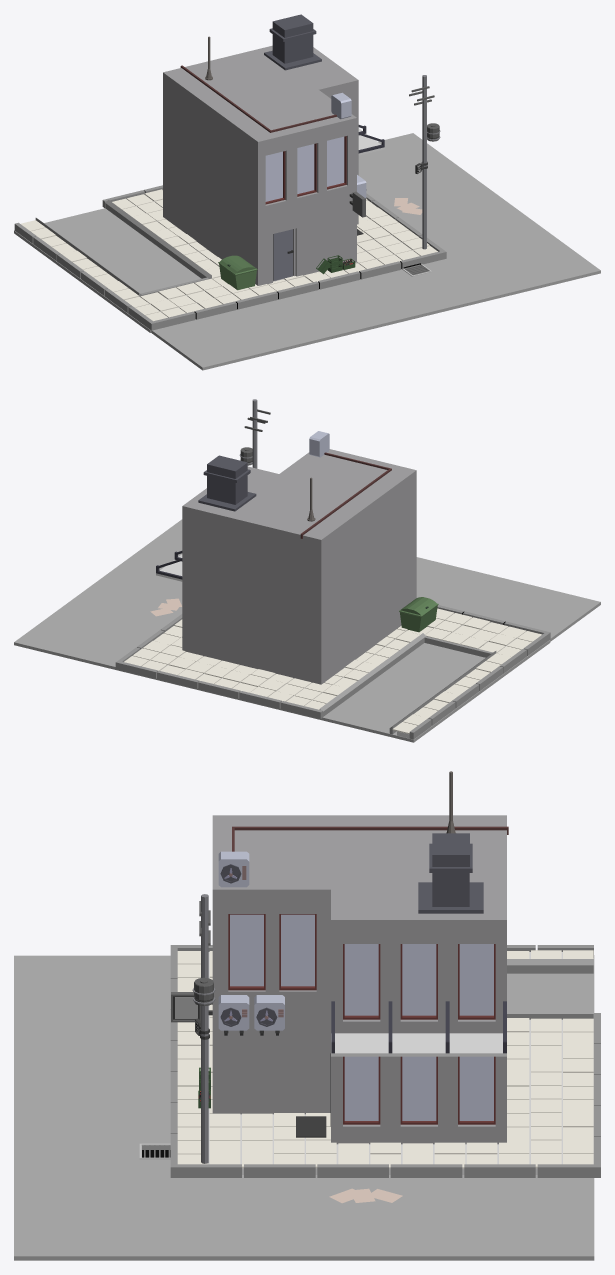
Rendered from Shop_Building.fbx.
The picture shows the model from 3 angles, top to bottom: view 1: azimuth 30°, elevation 25°; view 2: azimuth 150°, elevation 25°; view 3: azimuth 270°, elevation 25°; orthographic projection. The views are drawn at different scales.
Parts seen in each view (by area): view 1: Block_1, Road, Cube, Block_2, Floor_1, Floor_3, Top_2, Floor_2, Floor_5, Wire_2, Air_Conditioner_2, Trash (+2 smaller); view 2: Block_2, Cube, Floor_1, Block_1, Road, Top_2, Floor_2, Floor_4.001, Floor_5, Air_Conditioner_2, Trash, Wire_2 (+1 smaller); view 3: Block_2, Road, Cube, Block_1, Floor_1, Floor_4, Top_2, Wire_2, Air_Conditioner_2, Floor_2, Floor_3, Floor_7.001 (+8 smaller).
Part boxes in pixels (x1,y1,x2,y2): Block_1: (219, 90, 356, 285); Road: (151, 233, 600, 370); Cube: (14, 133, 548, 332); Block_2: (163, 45, 384, 257); Floor_1: (20, 189, 437, 321); Floor_3: (153, 251, 442, 329); Top_2: (264, 14, 321, 70); Floor_2: (35, 200, 211, 296); Floor_5: (14, 222, 155, 330); Wire_2: (409, 75, 440, 249); Air_Conditioner_2: (180, 65, 351, 132); Trash: (218, 255, 257, 290); Block_2: (156, 466, 378, 684); Cube: (14, 542, 550, 742); Floor_1: (124, 608, 541, 734); Block_1: (279, 449, 416, 642); Road: (151, 519, 600, 641); Top_2: (198, 455, 256, 511); Floor_2: (319, 633, 496, 734); Floor_4.001: (115, 660, 322, 718); Floor_5: (409, 631, 550, 739); Air_Conditioner_2: (300, 431, 391, 538); Trash: (399, 597, 438, 632); Wire_2: (239, 399, 270, 468); Block_2: (331, 815, 506, 1144); Road: (14, 955, 172, 1260); Cube: (173, 955, 594, 1260); Block_1: (212, 815, 330, 1114); Floor_1: (177, 950, 593, 1168); Floor_4: (170, 1164, 593, 1177); Top_2: (418, 833, 483, 913); Wire_2: (192, 894, 215, 1163); Air_Conditioner_2: (218, 826, 508, 887); Floor_2: (507, 959, 593, 1019); Floor_3: (170, 948, 177, 1164); Floor_7.001: (208, 1039, 562, 1174).
Size of the model in its own units: 46.58 by 22 by 38.38.
